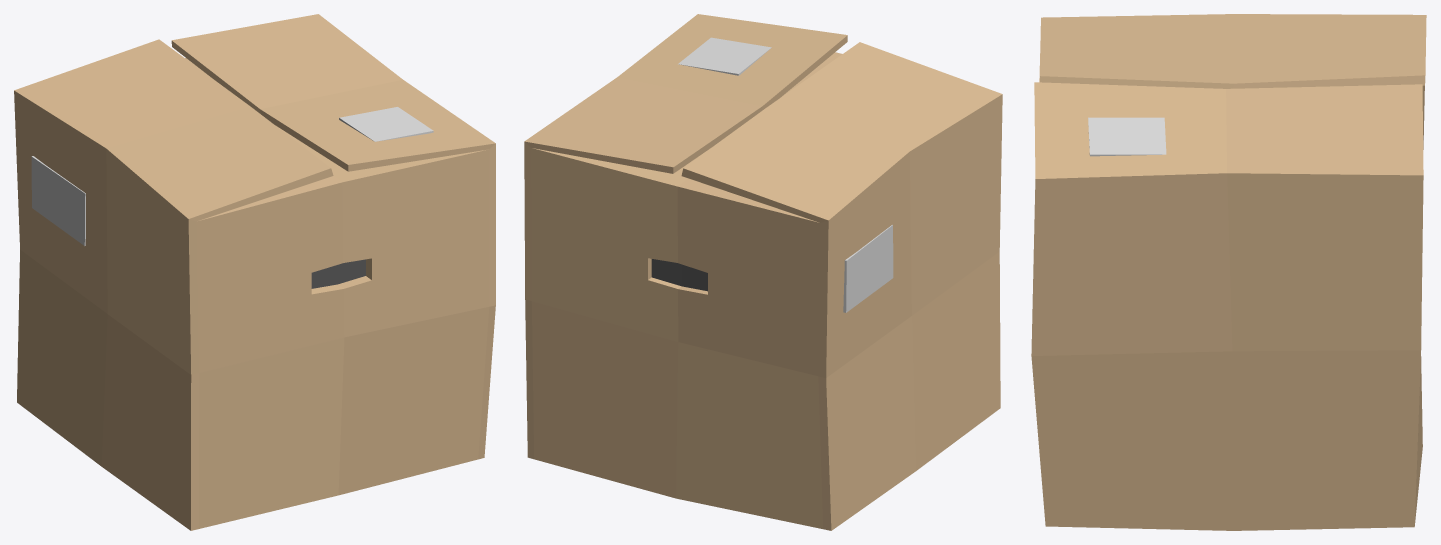
File: Cardboard_box.fbx
3 renders of one model, left to right at view 1: azimuth 30°, elevation 25°; view 2: azimuth 150°, elevation 25°; view 3: azimuth 270°, elevation 25°, orthographic. The views are drawn at different scales.
Visible parts, largest first — view 1: Cube; view 2: Cube; view 3: Cube.
Part boxes in pixels (<box>): Cube: <box>14,14,495,530</box>; Cube: <box>524,14,1002,530</box>; Cube: <box>1031,14,1426,530</box>.
Bounding box in the file's own units: 205 × 215 × 206.
